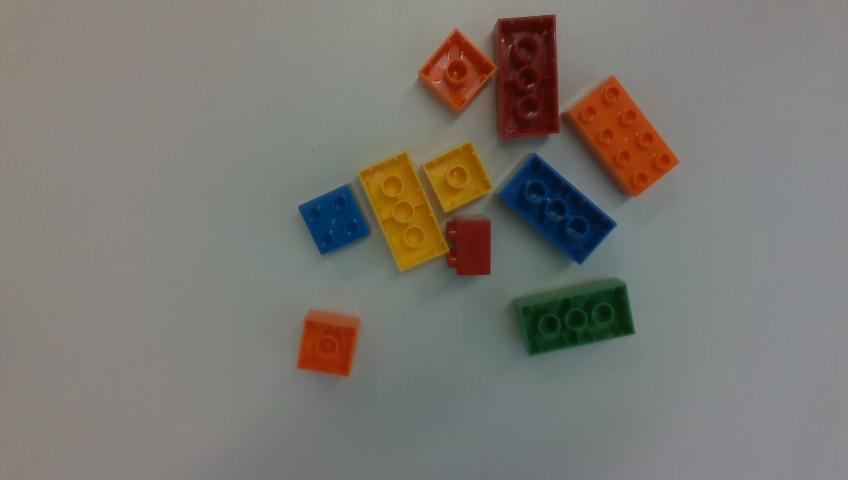2x2_blue: (299, 184, 369, 254)
2x2_orange: (419, 29, 495, 112), (297, 310, 359, 375)
2x2_red: (446, 216, 490, 275)
2x2_yellow: (423, 141, 491, 212)
4x2_blue: (497, 154, 615, 263)
4x2_green: (514, 278, 634, 355)
4x2_orange: (566, 76, 678, 195)
4x2_red: (495, 17, 557, 138)
4x2_yellow: (360, 152, 447, 270)
